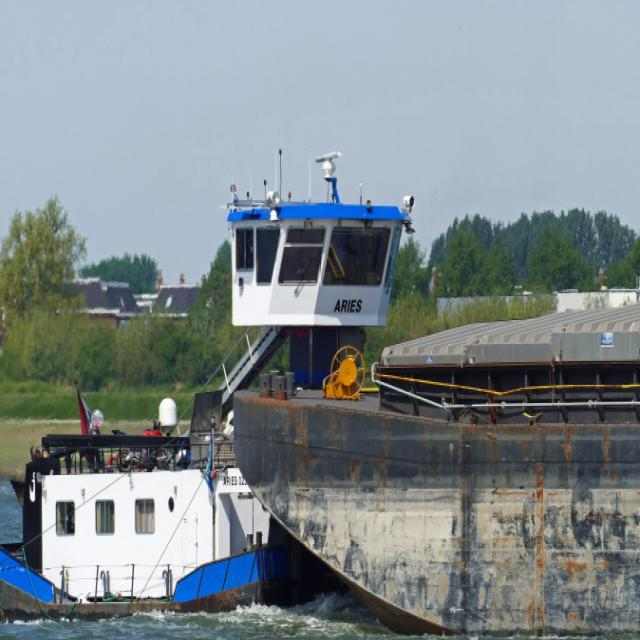tugboat: (1, 145, 460, 630)
